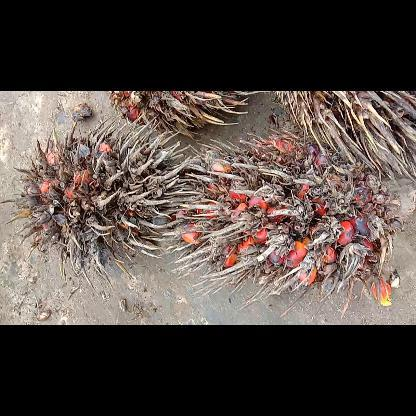Terlalu masak: (155, 122, 397, 324), (0, 120, 198, 292)
